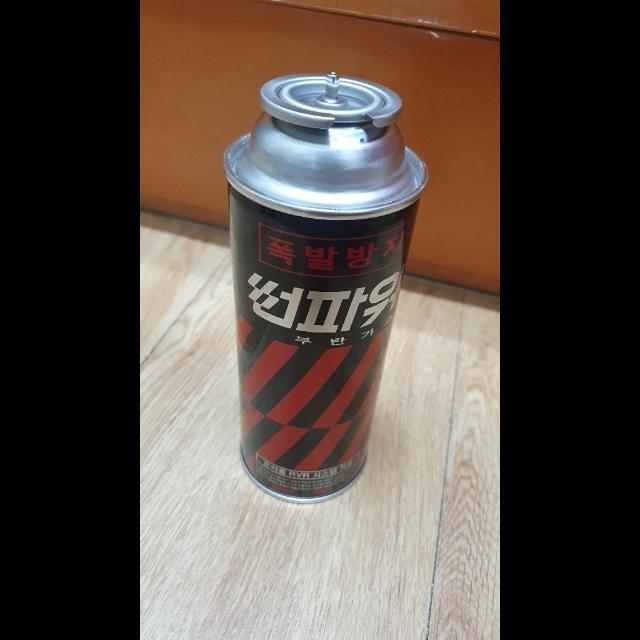chemical_spray_can: (214, 63, 428, 517)
